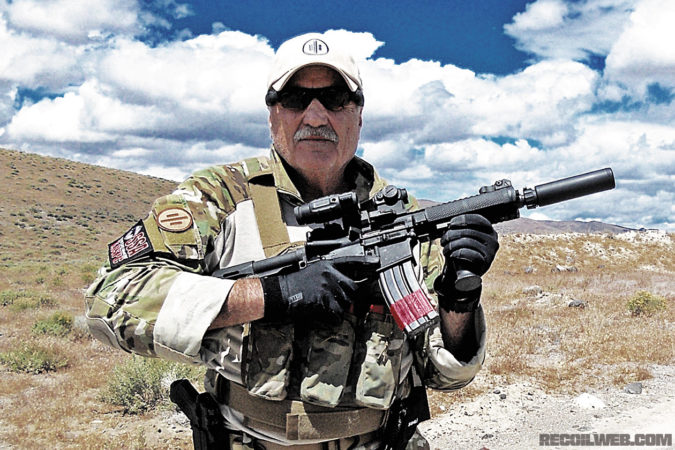Rifle: (202, 166, 619, 331)
